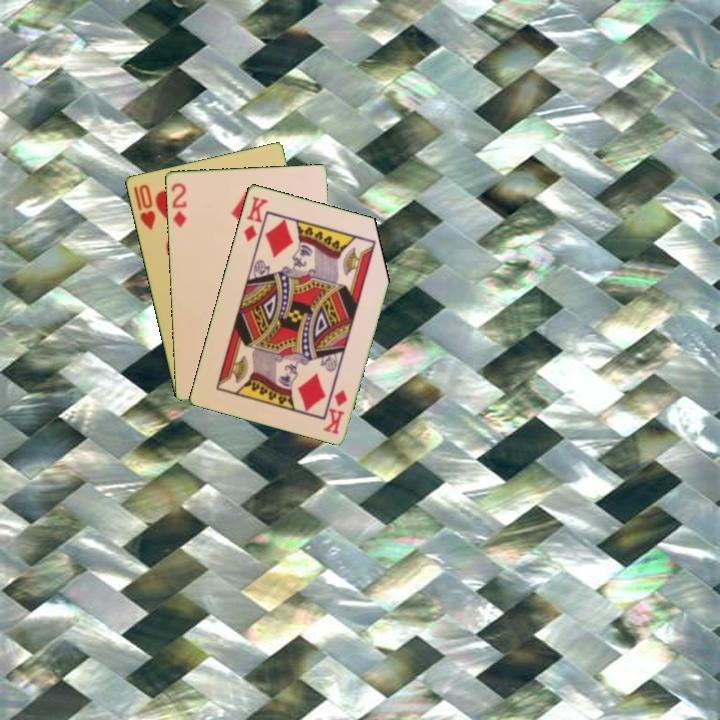10h: (135, 180, 158, 233)
2d: (167, 179, 189, 230)
Kd: (240, 192, 270, 244), (320, 385, 350, 437)
